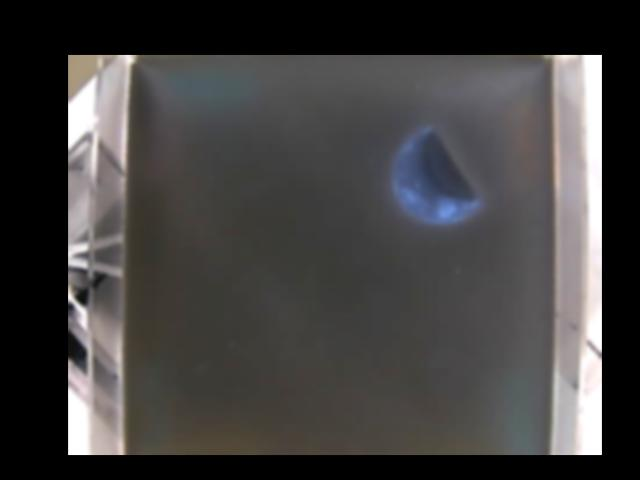Mooli: (393, 124, 480, 224)
